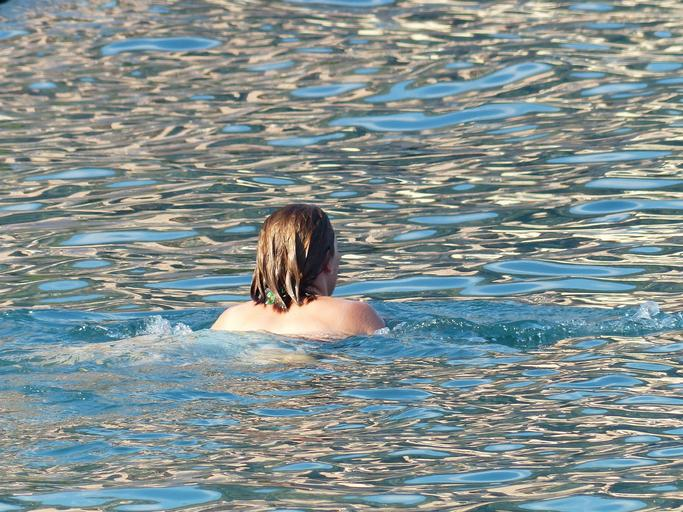human: (207, 201, 388, 342)
